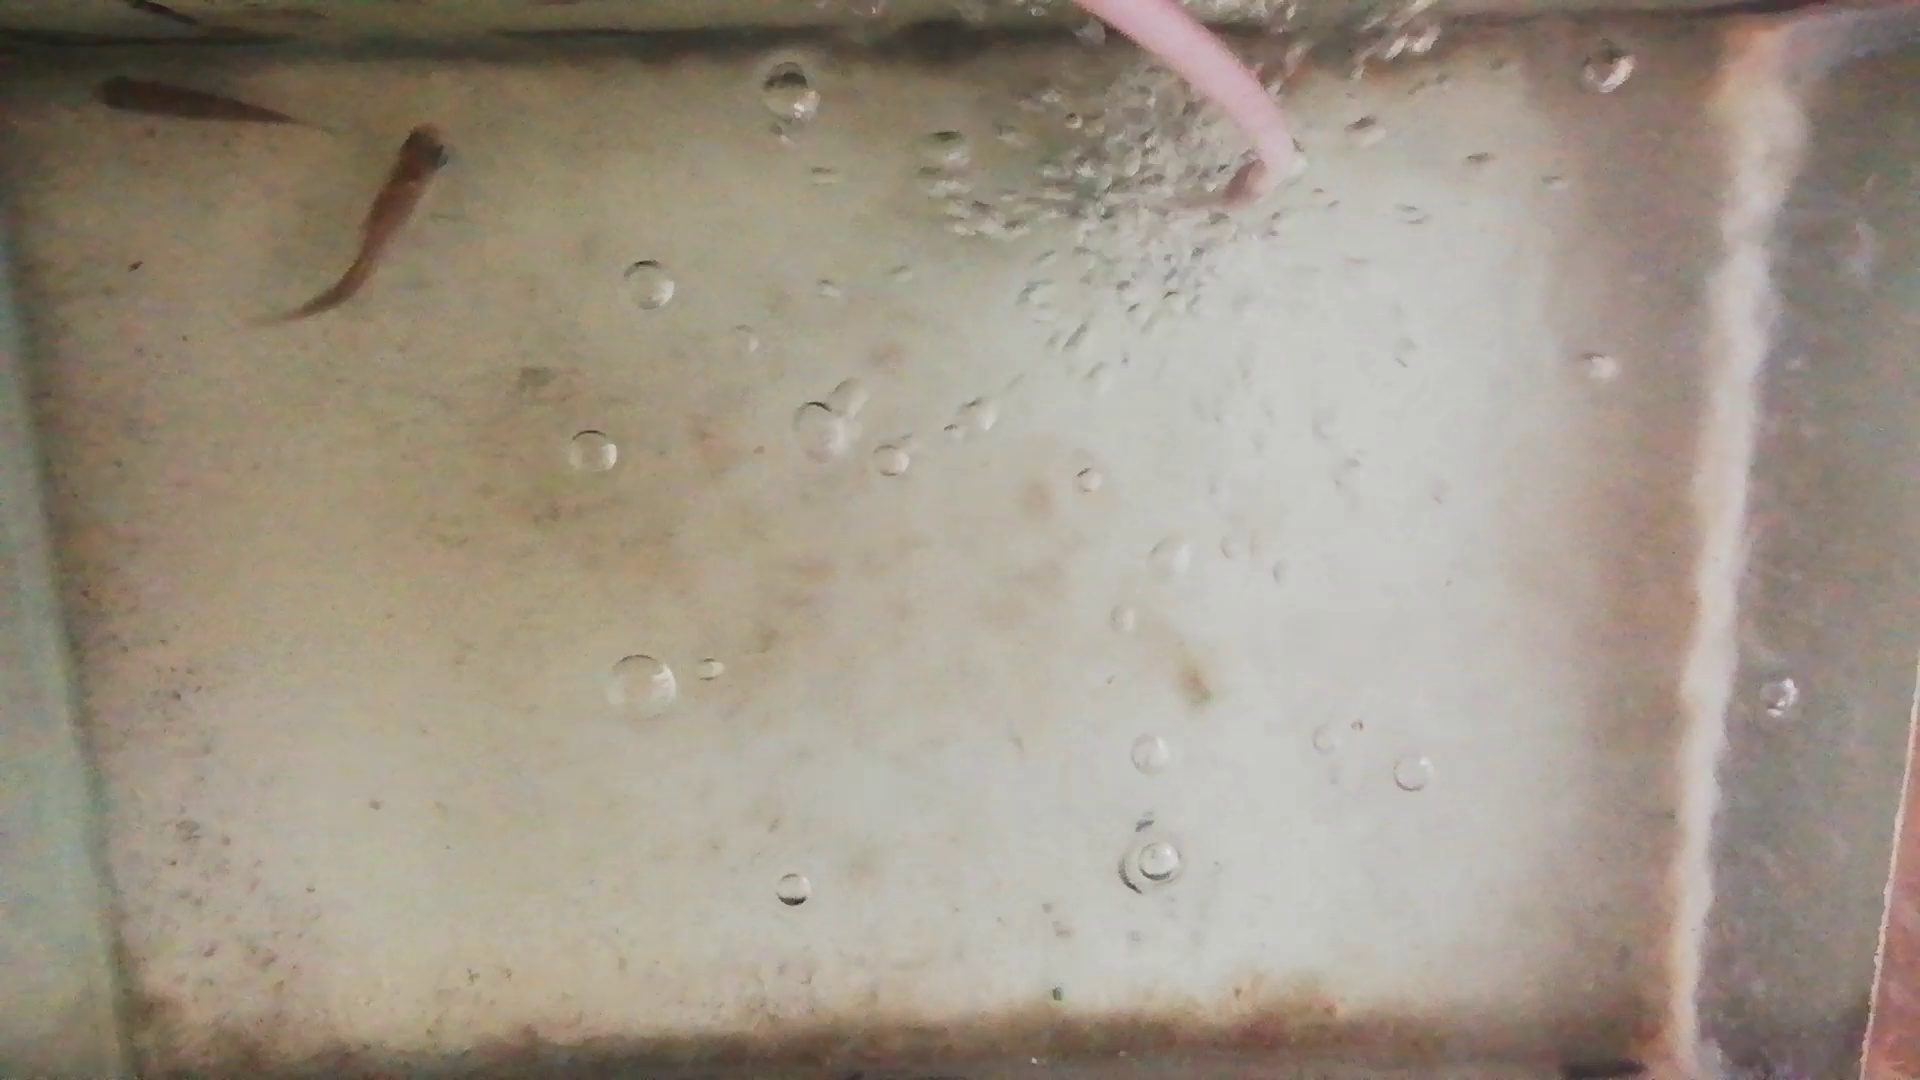fish: (290, 124, 452, 323), (88, 76, 290, 128)
